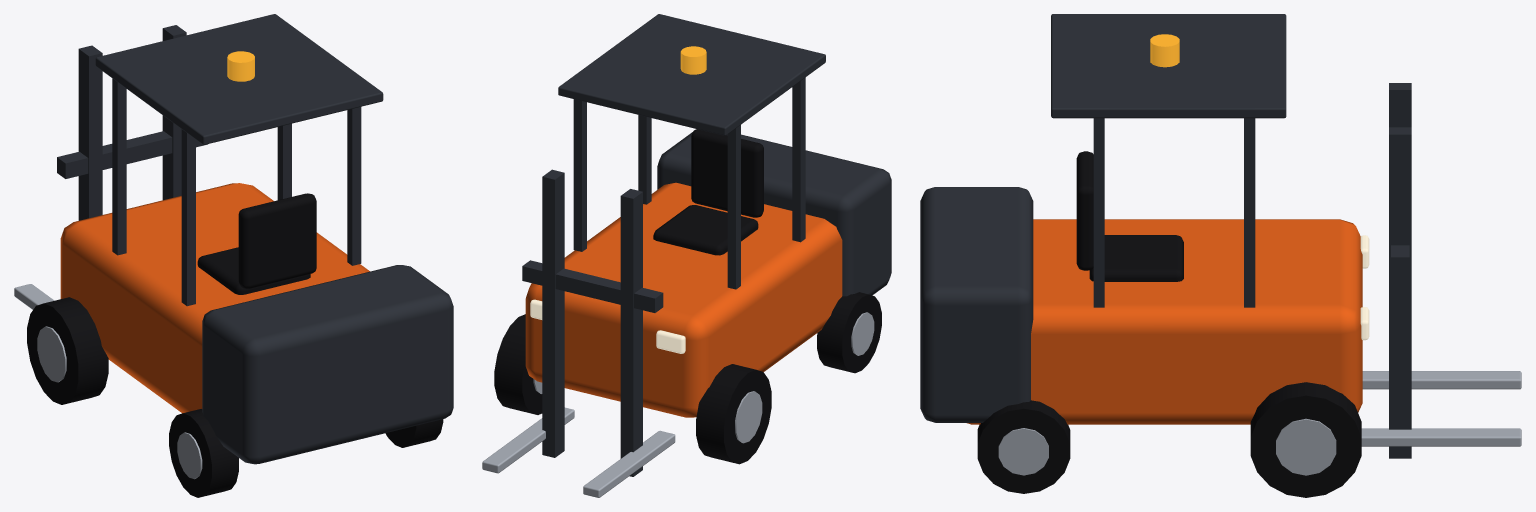
The model's file is obstacle_forklift.glb.
3 views of the same model, side by side, from view 1: azimuth 30°, elevation 25°; view 2: azimuth 150°, elevation 25°; view 3: azimuth 270°, elevation 25° (orthographic). The views are drawn at different scales.
Visible parts, largest first — view 1: Forklift; view 2: Forklift; view 3: Forklift.
Boxes of the visible parts, x1,y1,x2,y2 form: Forklift: (14,14,453,497); Forklift: (482,14,891,497); Forklift: (920,14,1521,497).
Bounding box in the file's own units: 1.66 × 2.3 × 3.2.
